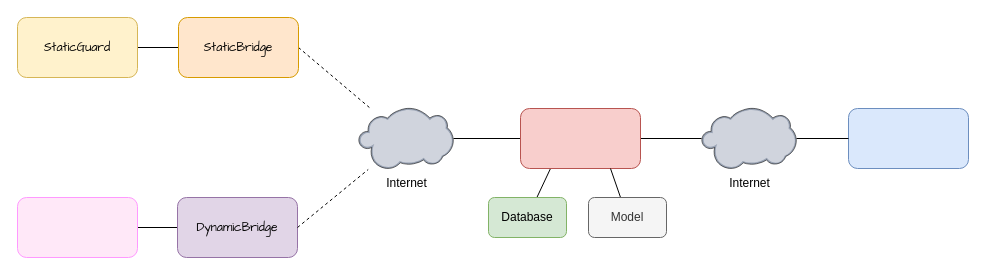
The diagram is 986 pixels wide and 275 high, and some of its shapes have lost their labels. The shapes that lost their labels are listed below. From the top down, each one's centre as x and y in pixels, then its label:
[580,138]: Server (backend)
[908,138]: Dashboard
[77,227]: DynamicGuard
